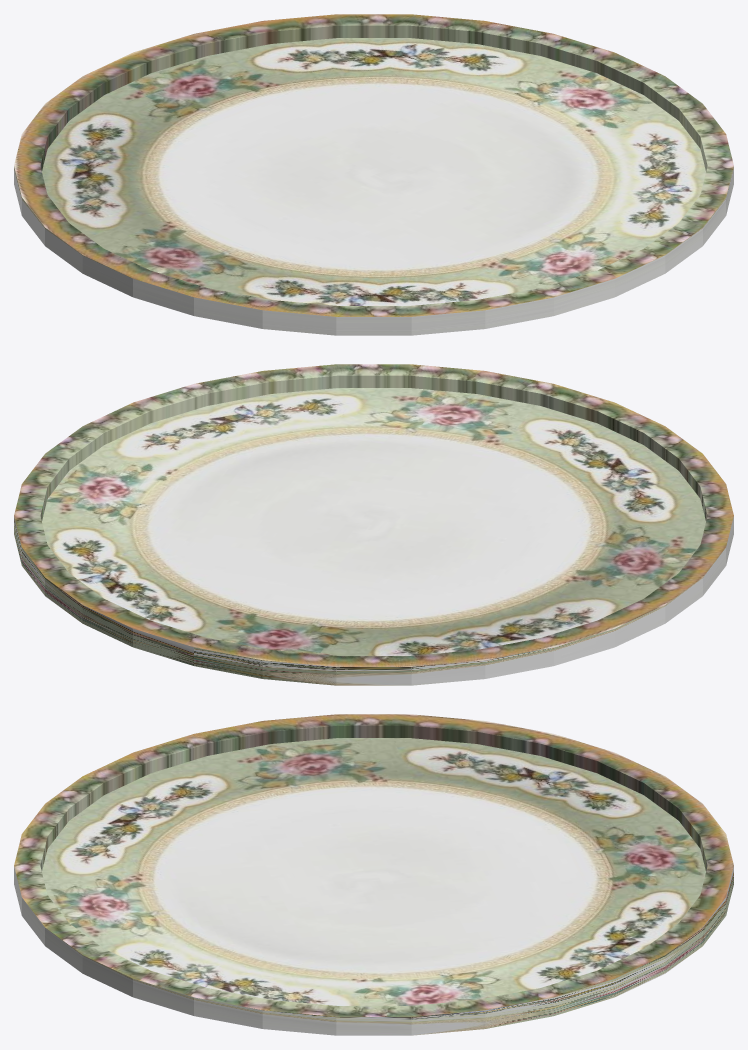
3 renders of one model, top to bottom at view 1: azimuth 30°, elevation 25°; view 2: azimuth 150°, elevation 25°; view 3: azimuth 270°, elevation 25°, orthographic.
Visible parts, largest first — view 1: Cylinder.001; view 2: Cylinder.001; view 3: Cylinder.001.
Part boxes in pixels (bbox=[...]): Cylinder.001: bbox=[14, 14, 733, 335]; Cylinder.001: bbox=[14, 364, 733, 685]; Cylinder.001: bbox=[14, 714, 733, 1035].
Size of the model in its own units: 126 by 7.36 by 126.
